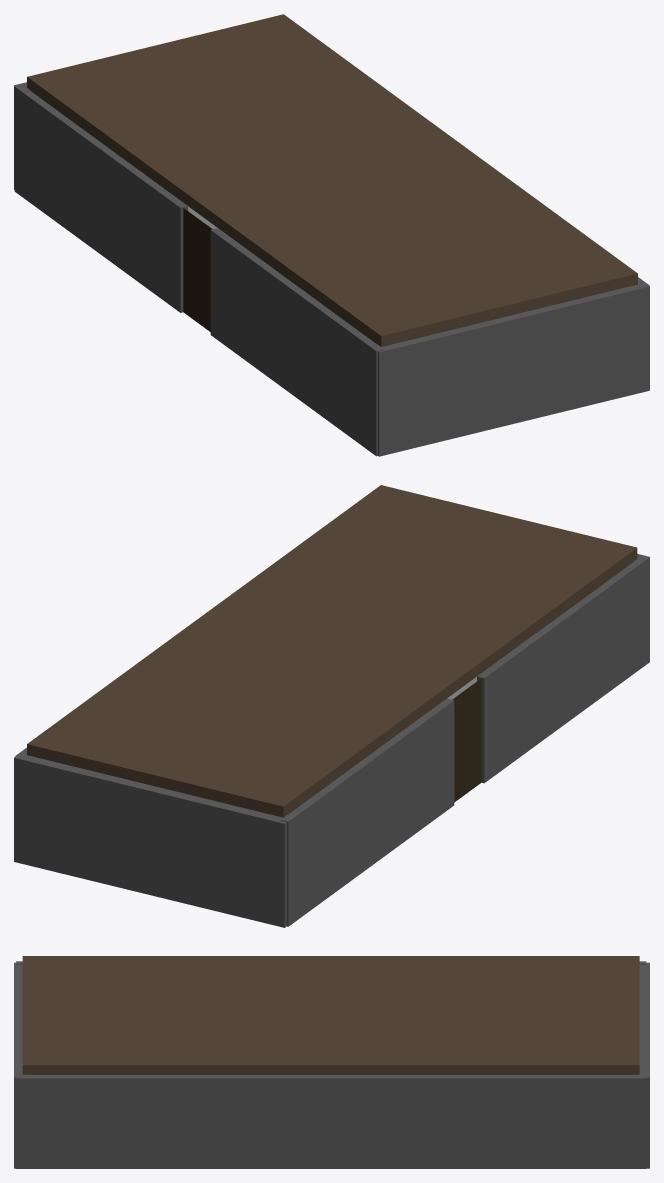
The model's file is Fbx_interior_1_roofing.fbx.
3 renders of one model, top to bottom at view 1: azimuth 30°, elevation 25°; view 2: azimuth 150°, elevation 25°; view 3: azimuth 270°, elevation 25°, orthographic. The views are drawn at different scales.
Visible parts, largest first — view 1: Ceiling_Fixed_5, Ceiling_damaged_Top_1, Left1, Right, Door; view 2: Ceiling_Fixed_5, Left1, Left, Ceiling_damaged_Top_1, Door; view 3: Ceiling_Fixed_5, Right1, Ceiling_damaged_Top_1, Left, Right.
Boxes of the visible parts, <box> form: Ceiling_Fixed_5: <box>27,14,637,346</box>; Ceiling_damaged_Top_1: <box>27,14,637,346</box>; Left1: <box>14,84,383,456</box>; Right: <box>376,279,649,456</box>; Door: <box>183,208,212,331</box>; Ceiling_Fixed_5: <box>27,485,637,817</box>; Left1: <box>281,555,649,926</box>; Left: <box>14,750,287,927</box>; Ceiling_damaged_Top_1: <box>27,485,637,816</box>; Door: <box>452,678,481,802</box>; Ceiling_Fixed_5: <box>22,956,639,1074</box>; Right1: <box>16,1075,646,1168</box>; Ceiling_damaged_Top_1: <box>22,956,639,1074</box>; Left: <box>633,962,649,1168</box>; Right: <box>14,962,30,1168</box>.
Size of the model in its own units: 1902 by 771 by 4400.
